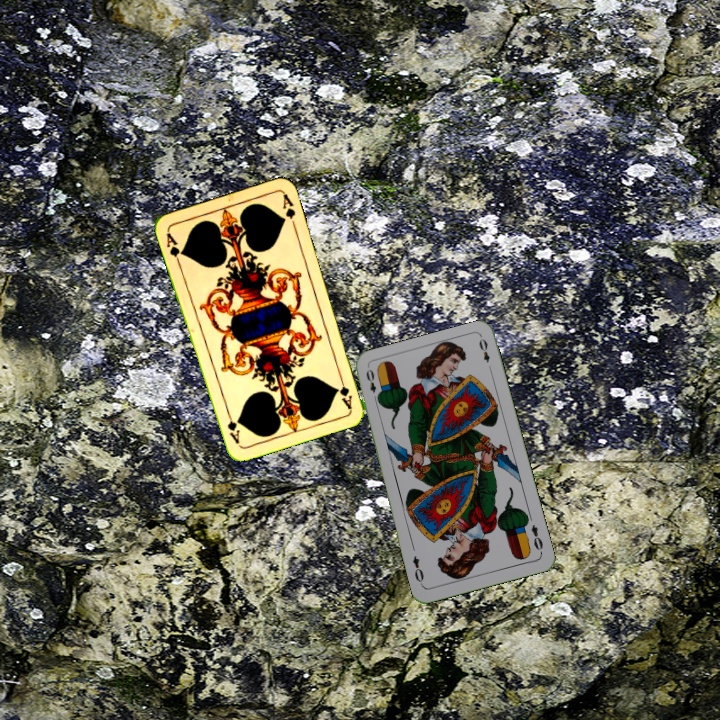EO: (362, 365, 381, 405), (527, 520, 545, 556)
GA: (162, 228, 186, 268), (335, 371, 355, 411)
